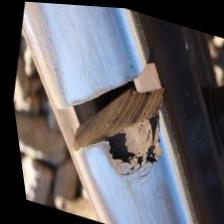person: (1, 5, 202, 195)
